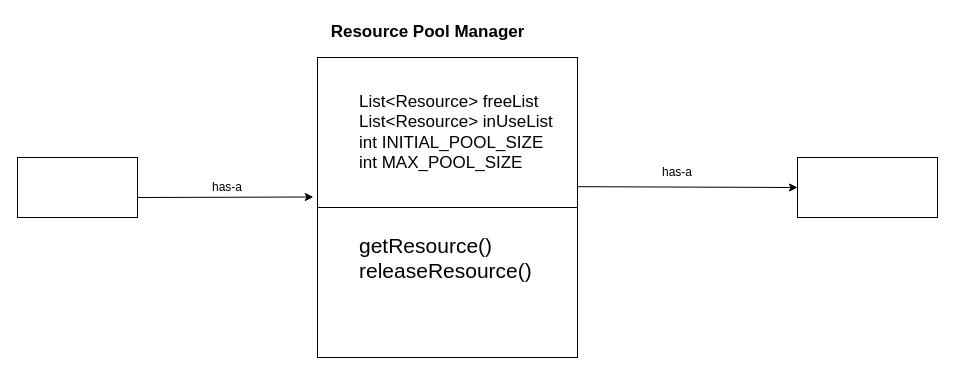
The diagram is 955 pixels wide and 375 high, and some of its shapes have lost their labels. Each missing label, with the centre of its shape:
Client: the point at 77,187
Resource: the point at 867,187
